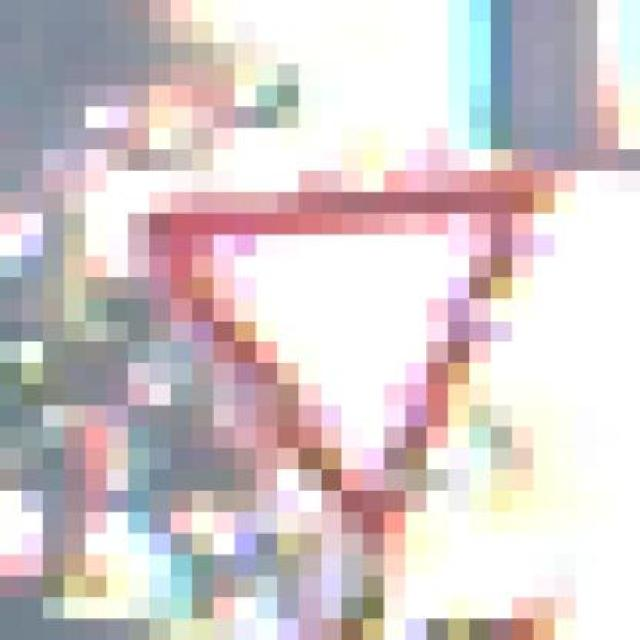Give Way: (0, 127, 598, 555)
